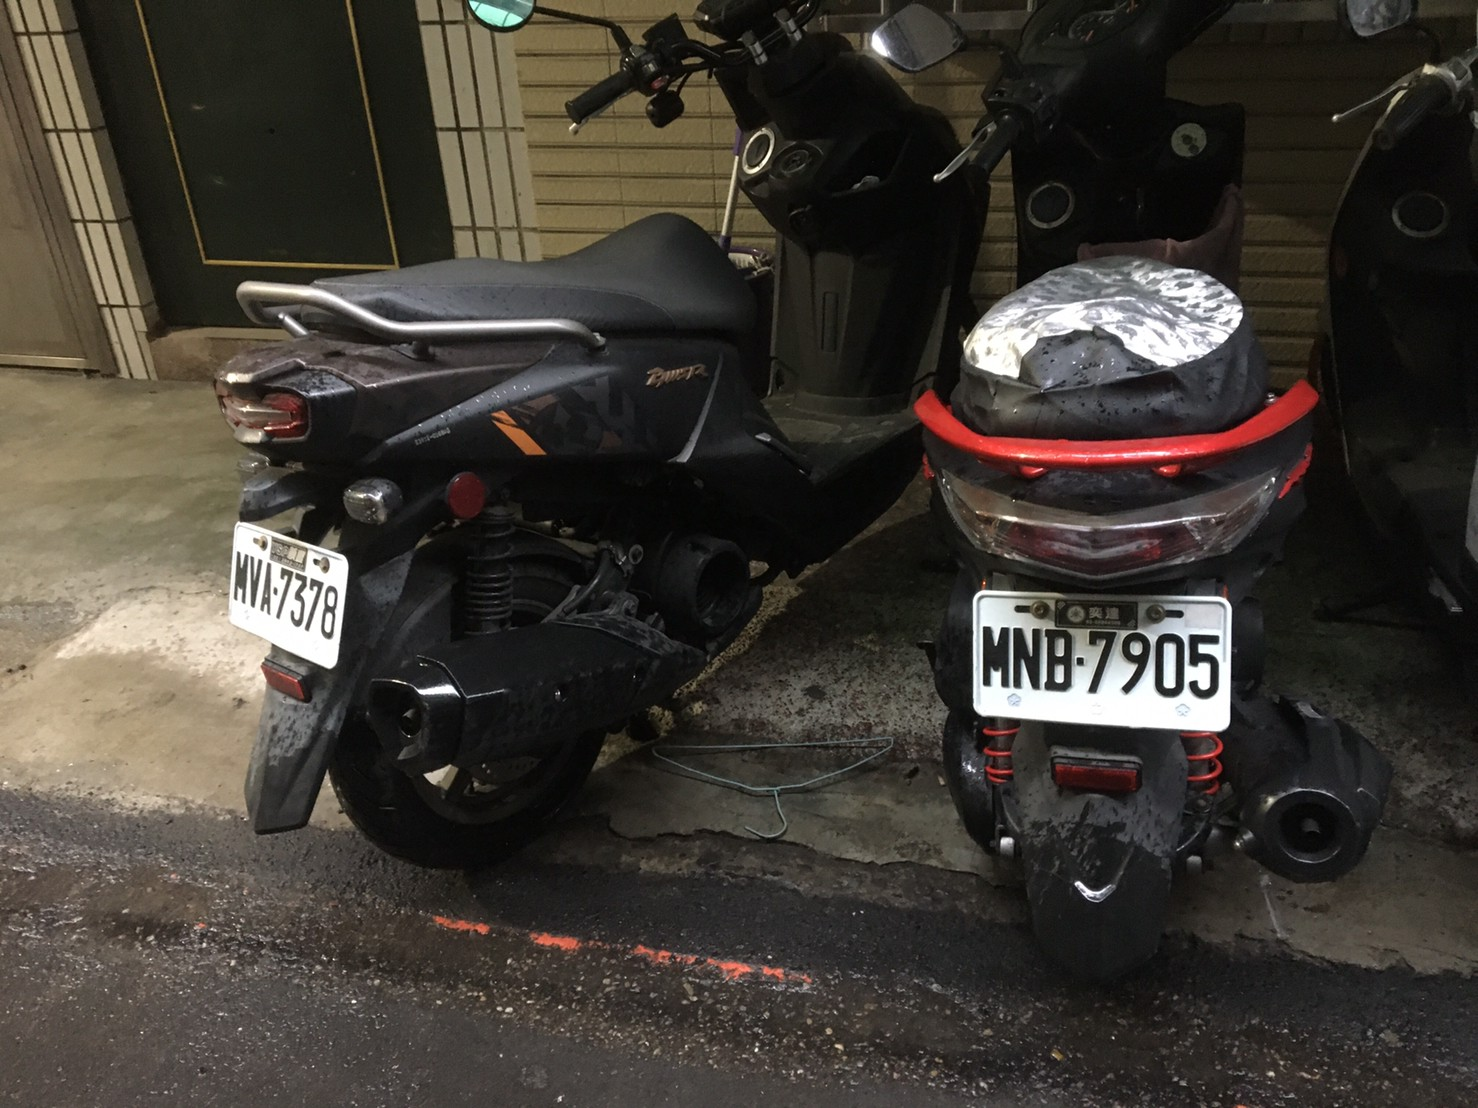LP: (974, 595, 1232, 725), (220, 531, 356, 671)
